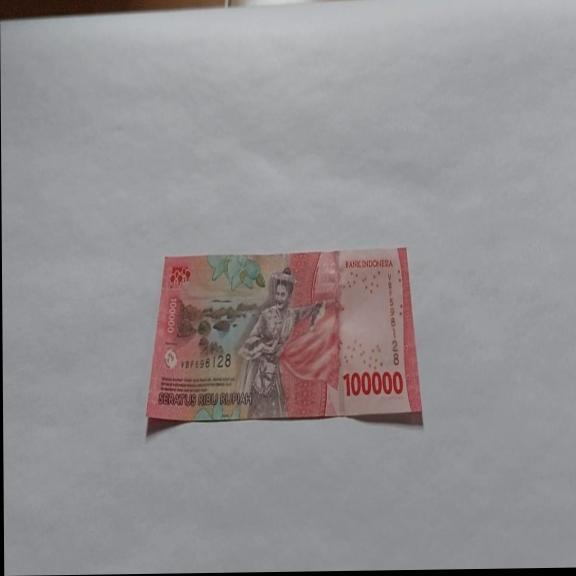Kertas: (144, 245, 423, 430), (342, 368, 404, 398)
